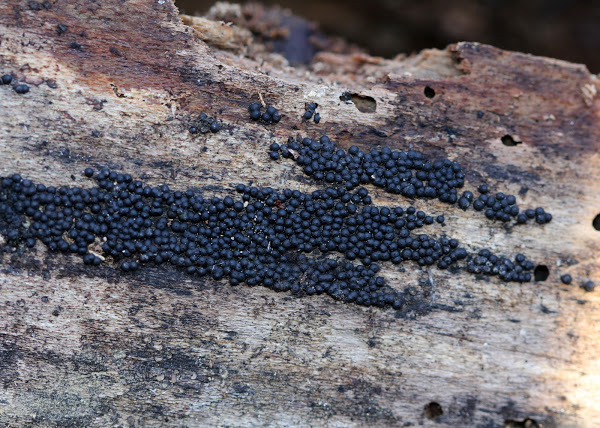pudricion radicular: (5, 100, 593, 333)
